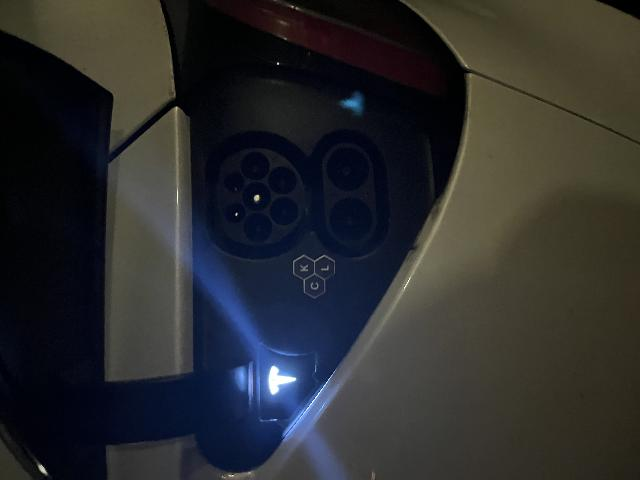inlet: (233, 218, 332, 305)
inlet-above-left: (257, 225, 278, 246)
inlet-above-right: (287, 224, 308, 244)
inlet-below-left: (254, 270, 284, 299)
inlet-below-right: (286, 268, 314, 297)
inlet-circle: (270, 241, 298, 271)
inlet-circle-left: (237, 243, 267, 272)
inlet-circle-right: (300, 240, 328, 270)
inlet-minus: (289, 327, 332, 369)
inlet-plus: (240, 329, 282, 373)
